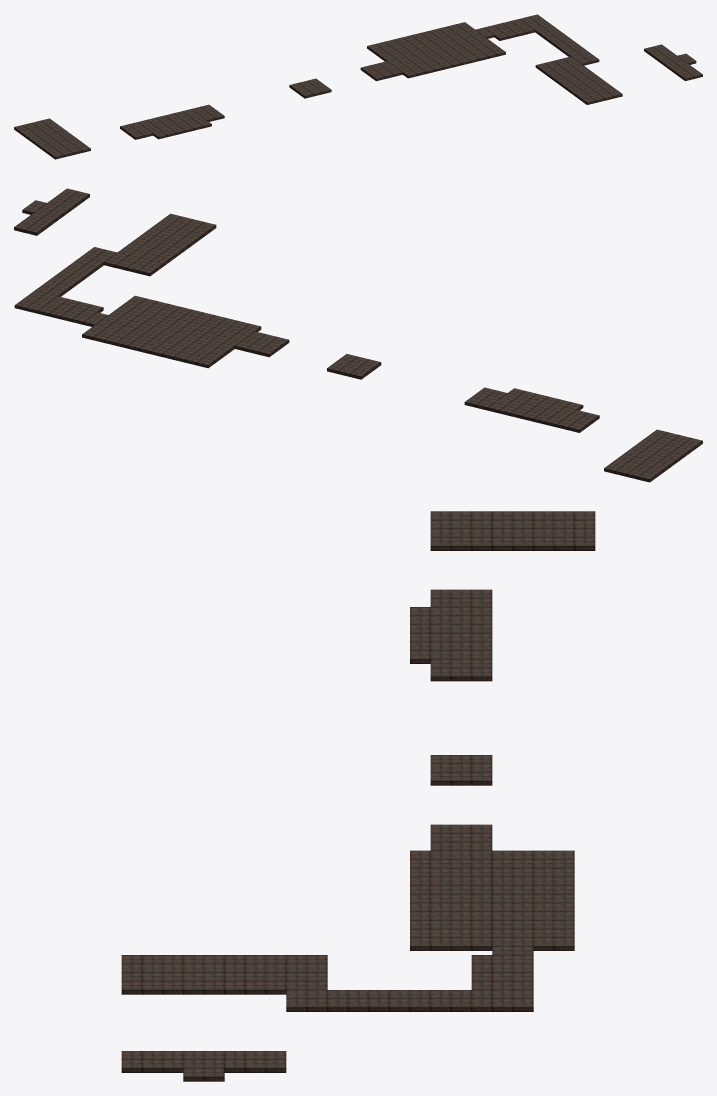
The model's file is TermProject_P2_floor.fbx.
3 views of the same model, one above another, from view 1: azimuth 30°, elevation 25°; view 2: azimuth 150°, elevation 25°; view 3: azimuth 270°, elevation 25° (orthographic). The views are drawn at different scales.
Visible parts, largest first — view 1: Floor.684; view 2: Floor.684; view 3: Floor.684.
Part boxes in pixels (<box>): Floor.684: <box>14,14,702,159</box>; Floor.684: <box>14,188,702,482</box>; Floor.684: <box>121,511,595,1081</box>.
Size of the model in its own units: 26000 by 100 by 9200.
